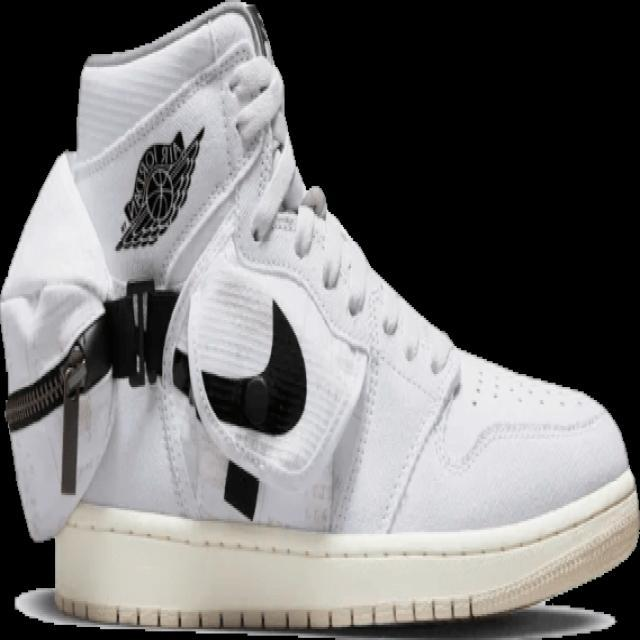J1_InsoleChar: (1, 1, 637, 632)
J1_ShoeLogo: (113, 124, 205, 251)
J1_StitchPattern: (6, 192, 459, 531), (50, 481, 637, 627), (6, 274, 302, 516), (156, 276, 271, 521), (182, 273, 309, 437), (3, 315, 112, 496), (57, 596, 477, 630), (377, 368, 463, 534), (187, 275, 275, 380), (3, 340, 89, 431), (220, 457, 262, 521)
